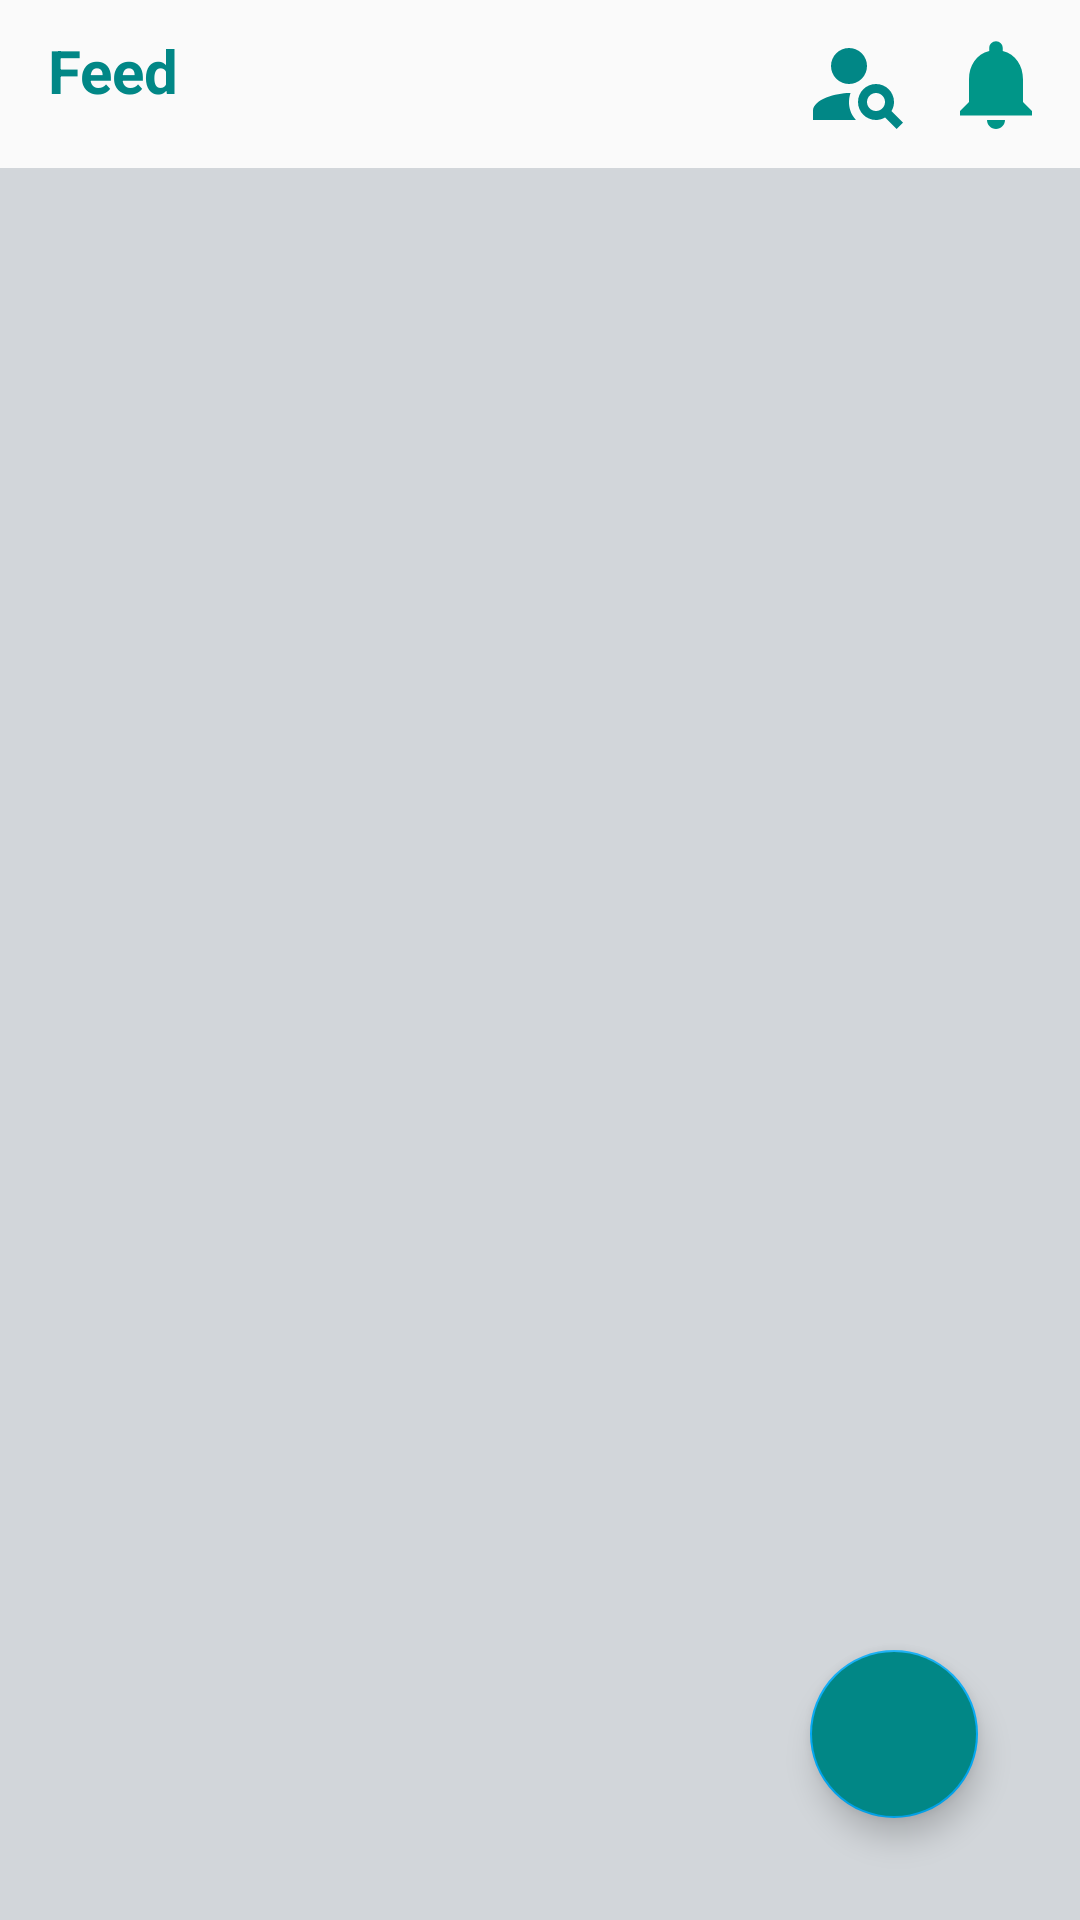

Screen size 1080w x 1920h. Icon name, then its box in pixels as (x1, y1, x2, y2):
notifications: (960, 41, 1032, 129)
person search: (813, 48, 903, 129)
